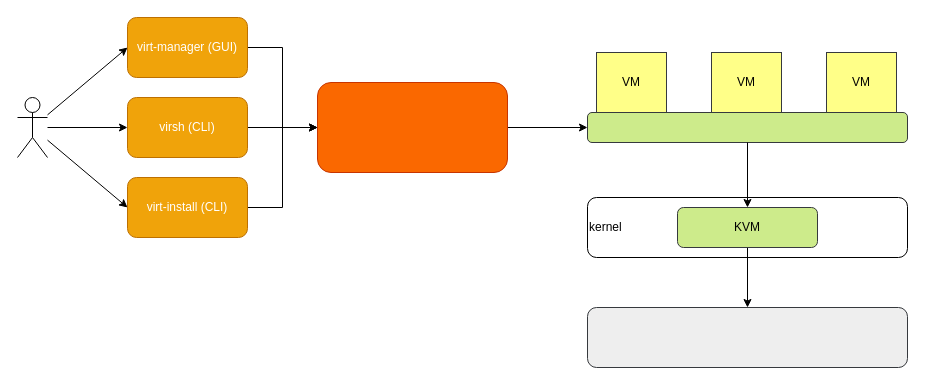
The diagram is 925 pixels wide and 385 high, and some of its shapes have lost their labels. Here are the shapes that lost their labels. From the top down, the centre of each, then its label:
At (412,127): "libvirt (virtualization API abstracting direct interaction with qemu/kvm)".
At (747,127): "qemu (machine emulator)".
At (747,337): "hardware".
